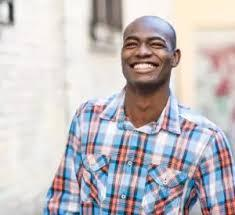person: (115, 9, 187, 91)
